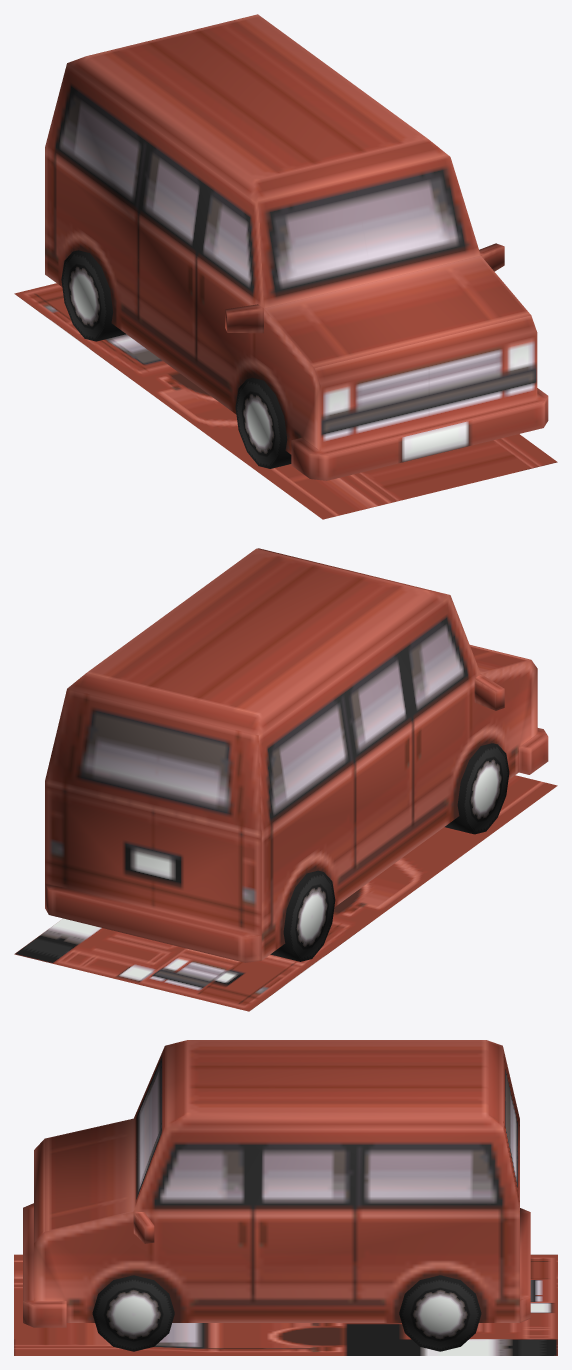
Rendered from car-1.fbx.
3 renders of one model, top to bottom at view 1: azimuth 30°, elevation 25°; view 2: azimuth 150°, elevation 25°; view 3: azimuth 270°, elevation 25°, orthographic. The views are drawn at different scales.
Visible parts, largest first — view 1: Car1Body, Car1Shadow, Car1RearWheel, Car1FrontWheel; view 2: Car1Body, Car1Shadow, Car1RearWheel, Car1FrontWheel; view 3: Car1Body, Car1Shadow, Car1RearWheel, Car1FrontWheel.
Boxes of the visible parts, x1,y1,x2,y2 form: Car1Body: (45, 14, 548, 480); Car1Shadow: (14, 283, 557, 519); Car1RearWheel: (61, 250, 125, 341); Car1FrontWheel: (235, 377, 291, 468); Car1Body: (45, 548, 548, 962); Car1Shadow: (14, 775, 557, 1011); Car1RearWheel: (270, 870, 335, 961); Car1FrontWheel: (445, 743, 509, 834); Car1Body: (23, 1040, 530, 1327); Car1Shadow: (14, 1254, 557, 1355); Car1RearWheel: (399, 1275, 481, 1351); Car1FrontWheel: (92, 1275, 174, 1351).
Size of the model in its own units: 2.48 by 2.21 by 4.78.
